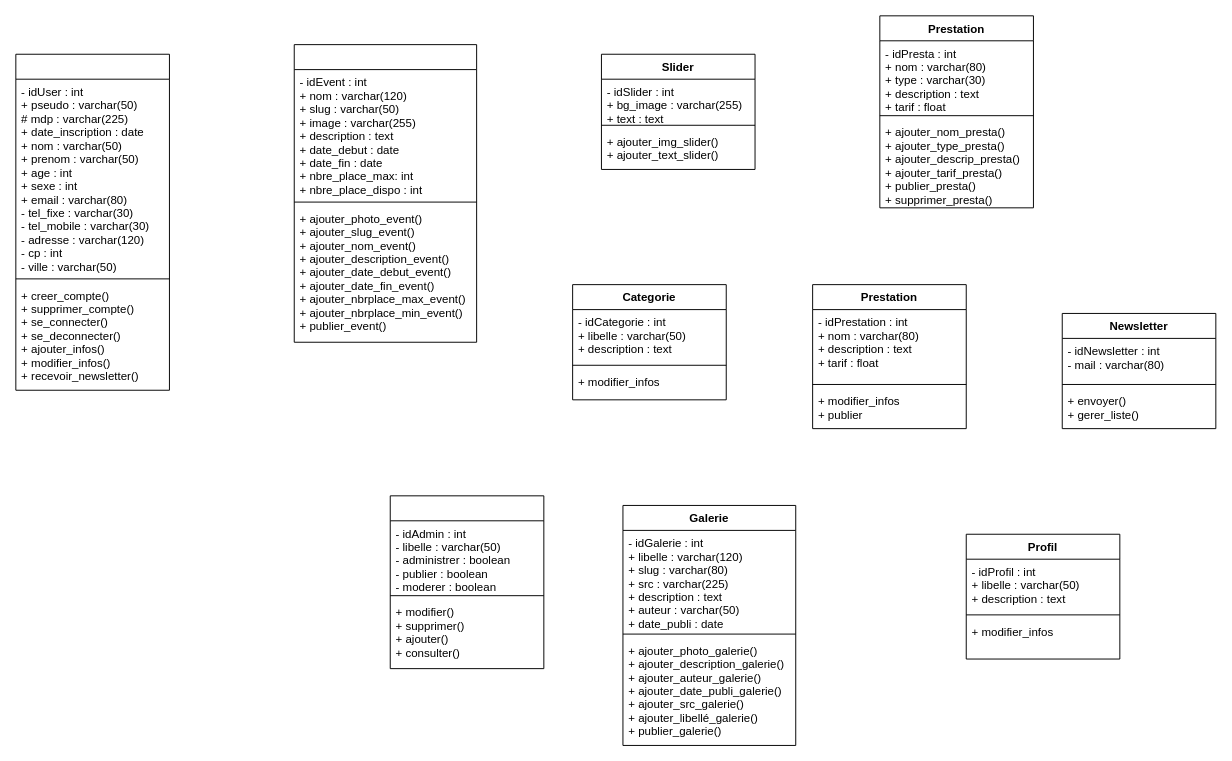
Image size: 1232x761. Some labels were removed from this diagram. Each missing label, with the box of its shape:
Administrateur: (389, 495, 544, 669)
Evenement: (293, 44, 477, 342)
Utilisateur: (15, 53, 169, 390)
